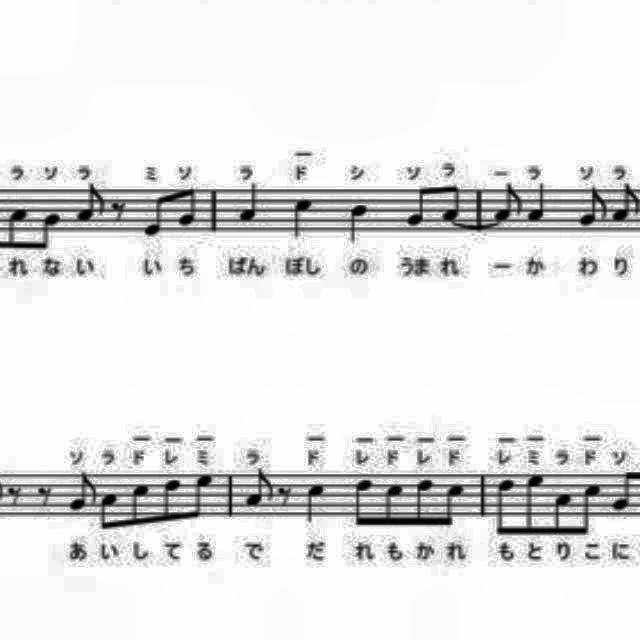Eighth-note: (522, 469, 550, 538), (575, 482, 607, 538), (74, 179, 110, 227), (62, 470, 100, 514), (242, 466, 278, 509), (493, 474, 517, 538), (190, 469, 218, 523), (578, 184, 610, 230), (4, 204, 32, 256), (141, 192, 171, 240), (350, 472, 374, 532), (492, 182, 524, 226), (402, 182, 431, 230), (611, 468, 640, 516), (444, 479, 470, 529), (611, 182, 639, 228), (414, 476, 436, 532), (129, 481, 153, 532), (384, 481, 408, 532), (550, 489, 574, 539), (39, 206, 63, 254), (96, 488, 120, 536), (162, 473, 184, 525), (177, 184, 200, 228), (440, 182, 464, 222), (639, 468, 640, 516)
Eighth-rest: (274, 476, 296, 512), (108, 198, 132, 226), (33, 482, 55, 510), (6, 478, 24, 510)
Quarter-note: (236, 178, 268, 226), (287, 194, 317, 244), (524, 179, 552, 229), (342, 200, 370, 248), (302, 479, 330, 527)
